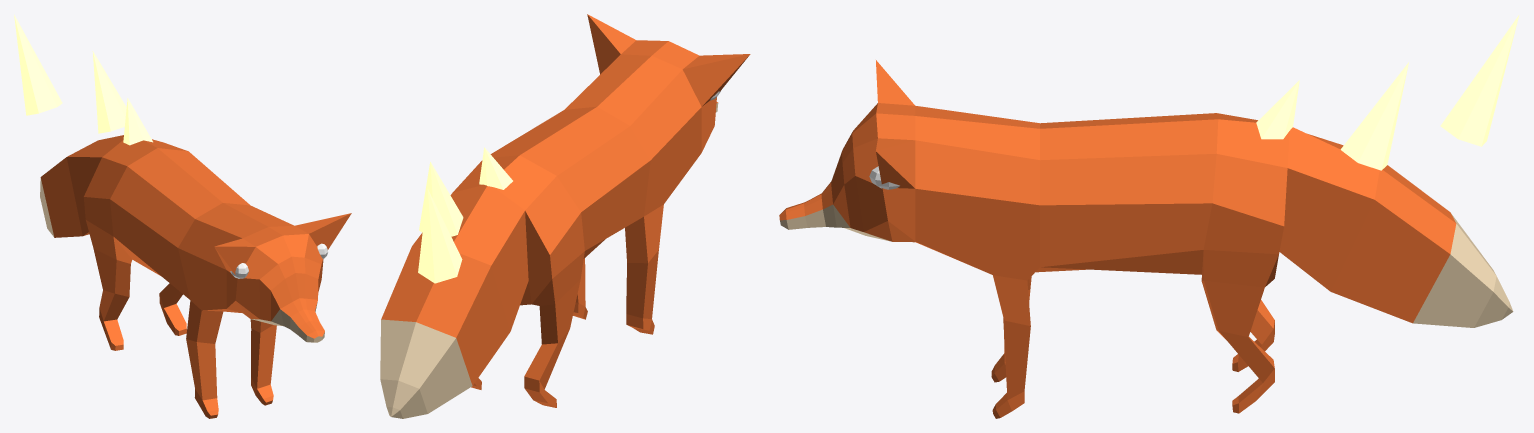
The model's file is EmberPup.fbx.
3 renders of one model, left to right at view 1: azimuth 30°, elevation 25°; view 2: azimuth 150°, elevation 25°; view 3: azimuth 270°, elevation 25°, orthographic. The views are drawn at different scales.
Parts seen in each view (by area): view 1: Body, Head, Glow_ff7832, LegBL, LegFL, LegFR, LegBR, Glow_ffffff; view 2: Body, Head, Glow_ff7832, LegBL, LegFL, LegFR; view 3: Body, Head, LegBR, Glow_ff7832, LegFR, LegBL.
Boxes of the visible parts, x1=… form: Body: x1=40, y1=135, x2=272, y2=343; Head: x1=178, y1=203, x2=351, y2=342; Glow_ff7832: x1=14, y1=14, x2=152, y2=145; LegBL: x1=86, y1=220, x2=132, y2=350; LegFL: x1=186, y1=339, x2=218, y2=418; LegFR: x1=250, y1=319, x2=276, y2=405; LegBR: x1=159, y1=283, x2=186, y2=335; Glow_ffffff: x1=230, y1=243, x2=327, y2=278; Body: x1=380, y1=106, x2=701, y2=418; Head: x1=564, y1=14, x2=750, y2=159; Glow_ff7832: x1=418, y1=147, x2=512, y2=283; LegBL: x1=524, y1=251, x2=584, y2=407; LegFL: x1=625, y1=217, x2=658, y2=334; LegFR: x1=573, y1=258, x2=587, y2=319; Body: x1=915, y1=113, x2=1513, y2=327; Head: x1=779, y1=60, x2=1039, y2=267; LegBR: x1=1041, y1=203, x2=1283, y2=413; Glow_ff7832: x1=1256, y1=15, x2=1519, y2=170; LegFR: x1=992, y1=317, x2=1030, y2=418; LegBL: x1=1232, y1=300, x2=1274, y2=371.
Bounding box in the file's own units: 0.7086 × 1.31 × 2.42.
Materials: 3 (1 with a texture image).
